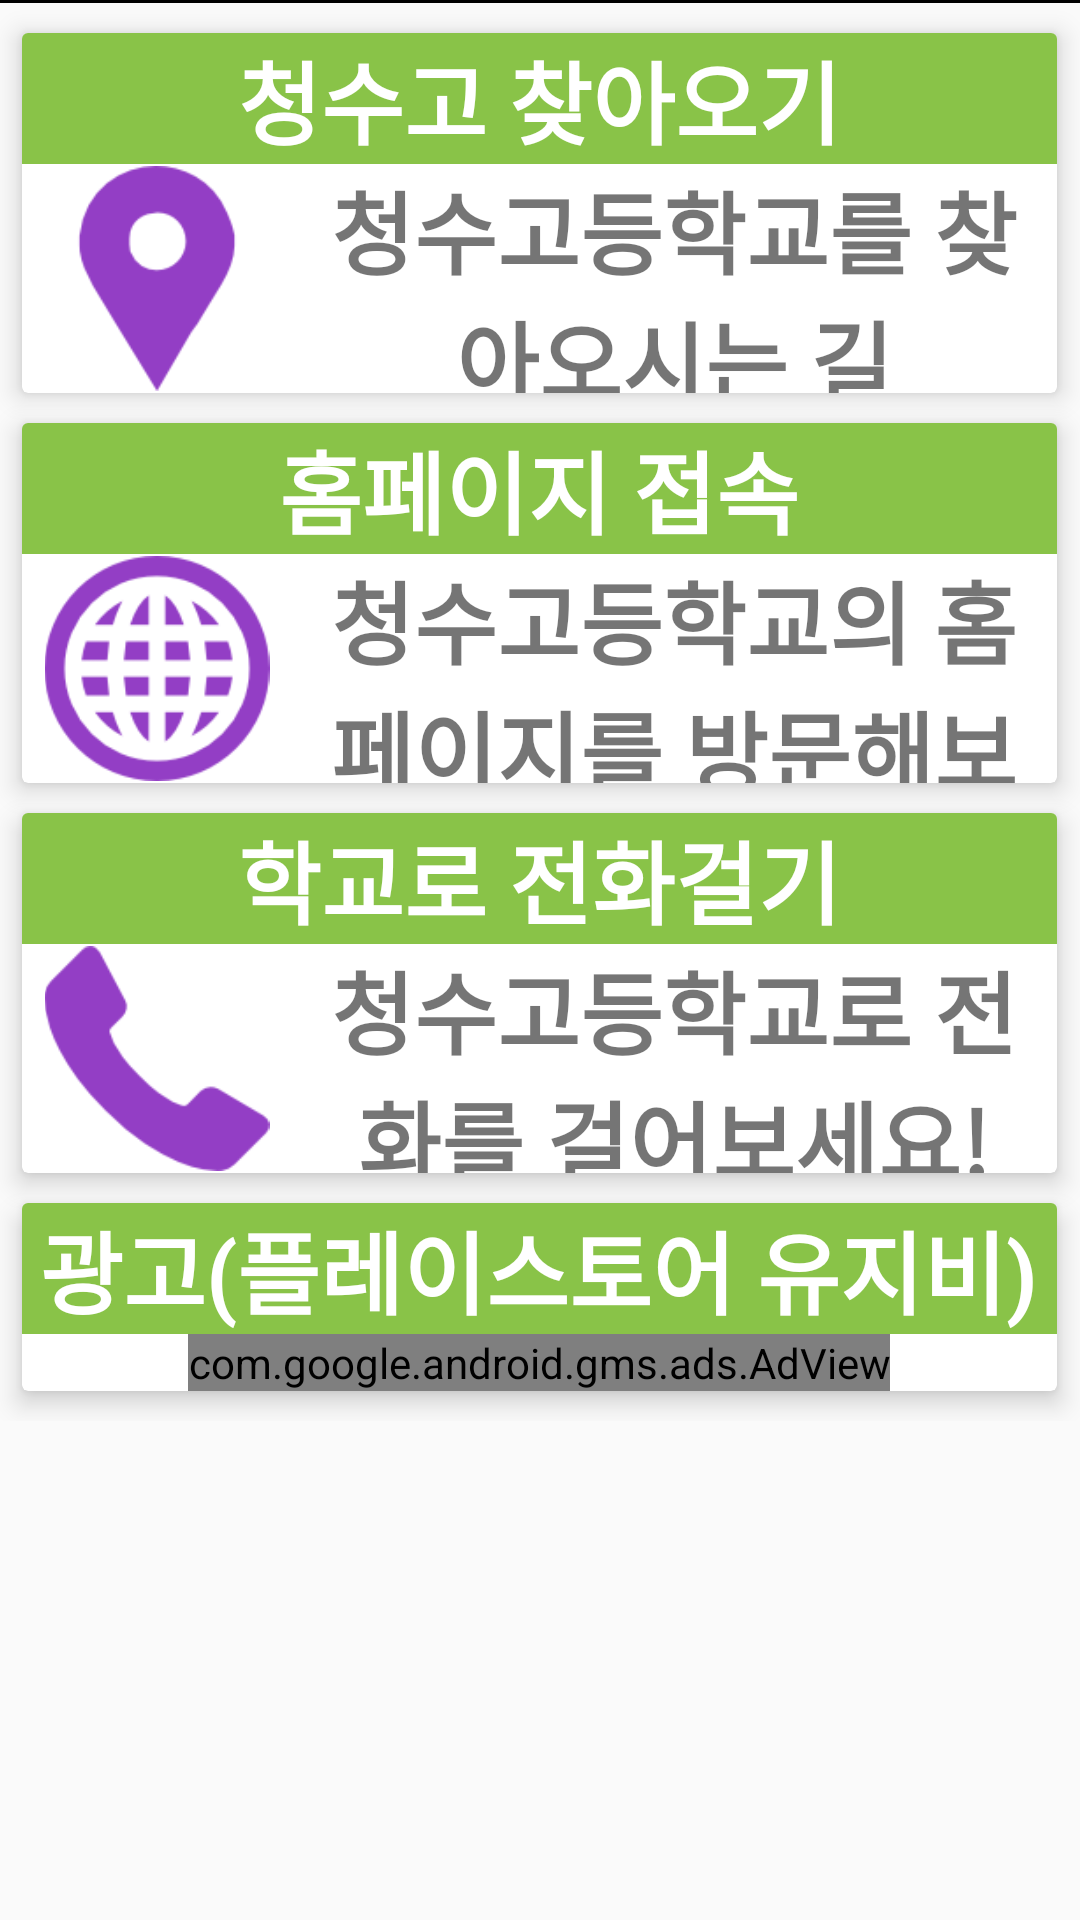

Icon click points for this 1080*1920 phone screenshot, format [x,y]:
call: [157,1058]
map: [157,278]
